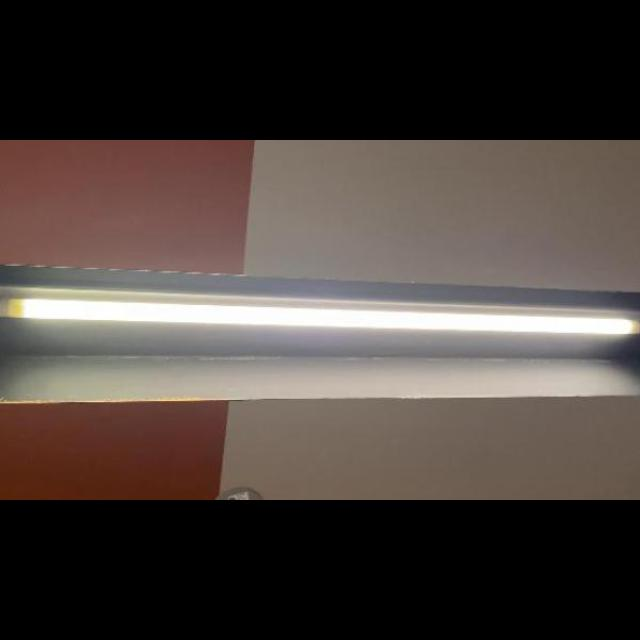Straight-Tube-Fluorescent-Lamp: (0, 276, 640, 352)
